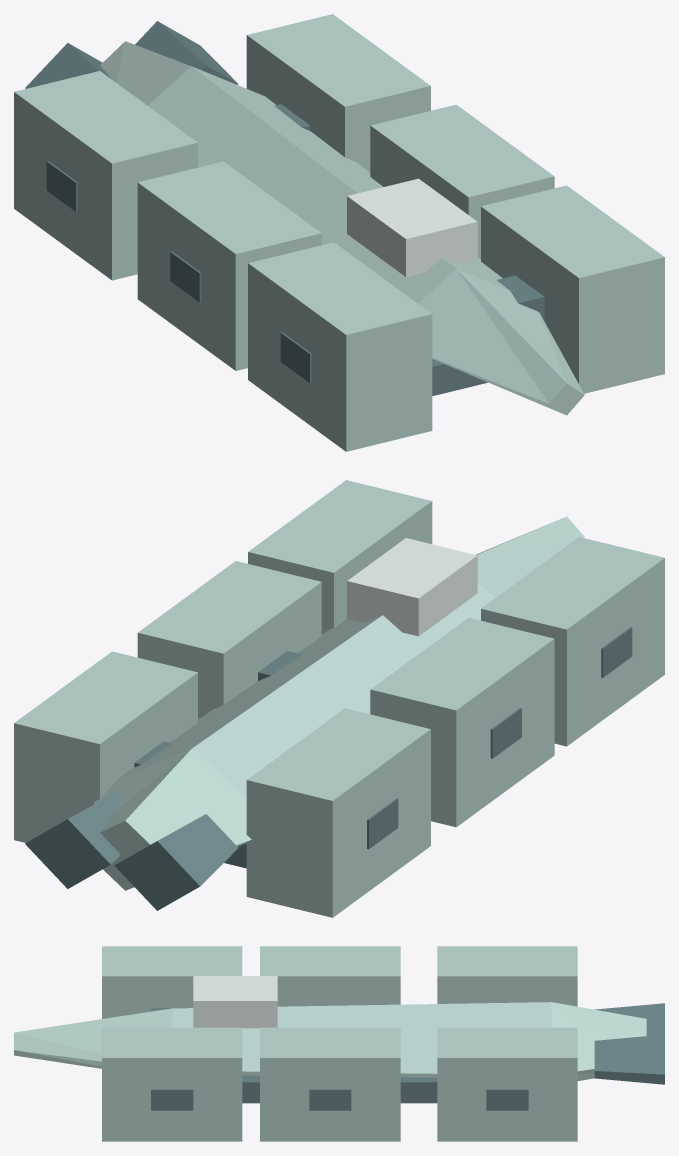
The picture shows the model from 3 angles, top to bottom: view 1: azimuth 30°, elevation 25°; view 2: azimuth 150°, elevation 25°; view 3: azimuth 270°, elevation 25°; orthographic projection. The views are drawn at different scales.
Size of the model in its own units: 4.25 by 1.71 by 10.37.
